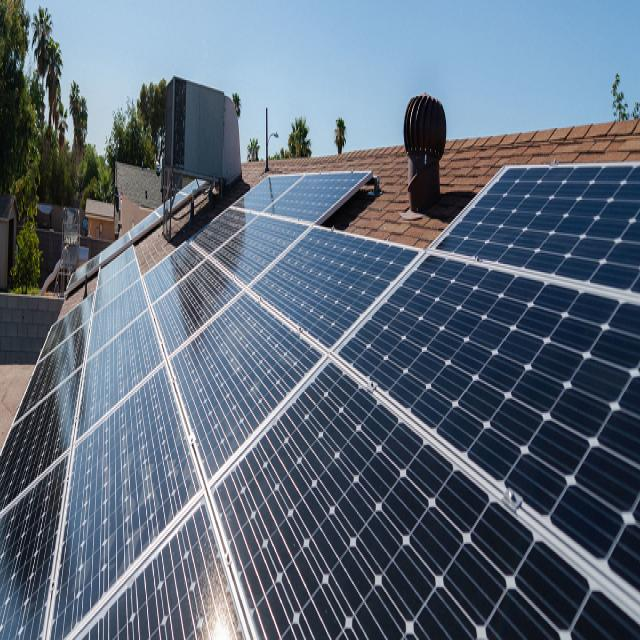clean-solar-panel: (0, 158, 640, 638)
